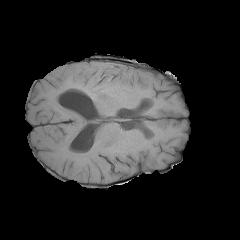glioma: (66, 63, 149, 98)
